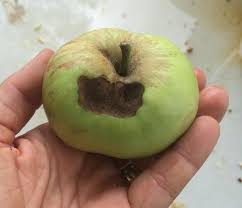damaged_apple: (44, 30, 197, 151)
